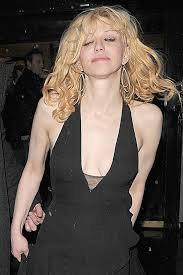Drunk: (78, 18, 122, 76)
